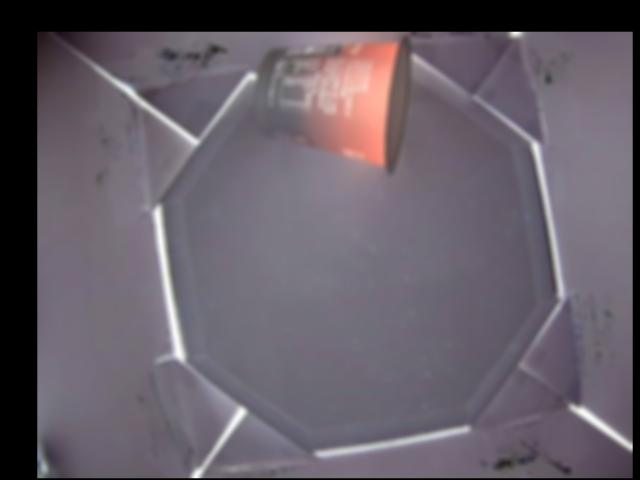Cup: (258, 35, 412, 175)
